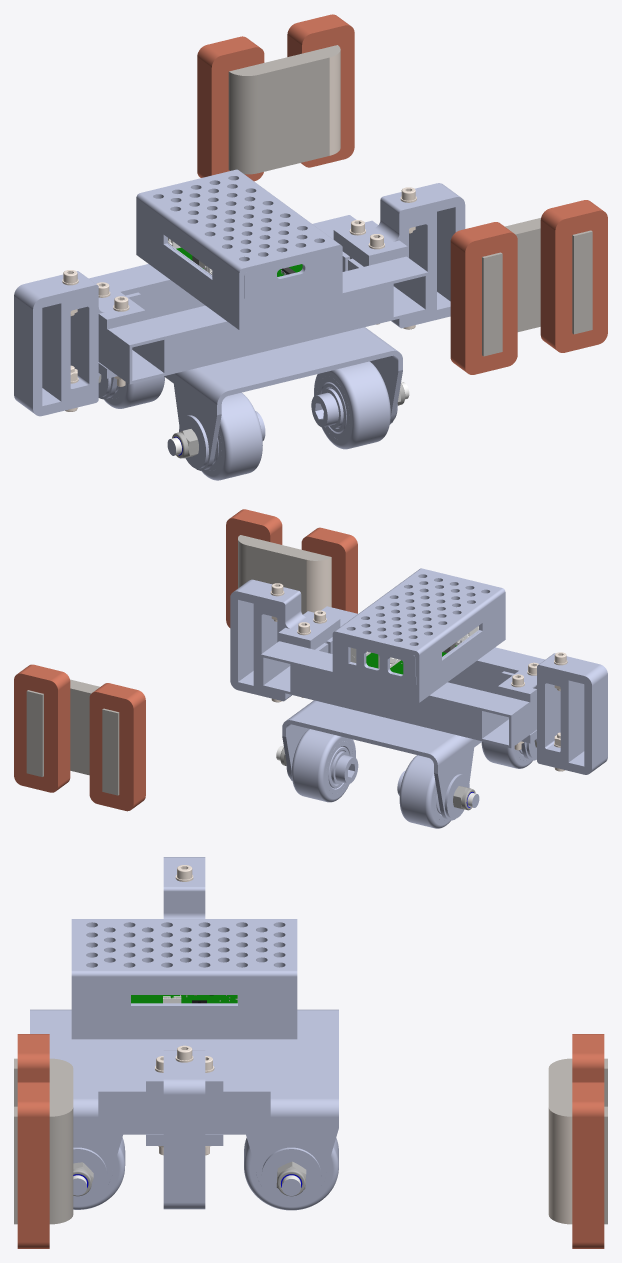
The model's file is vehicle-2.glb.
3 views of the same model, one above another, from view 1: azimuth 30°, elevation 25°; view 2: azimuth 150°, elevation 25°; view 3: azimuth 270°, elevation 25° (orthographic). The views are drawn at different scales.
Parts seen in each view (by area): view 1: EMSassembly-4/Ensamblaje unidad de levitación (EMS)-1/Bobina (×2), caja placa pieza 1-1, EMSassembly-5/Ensamblaje unidad de levitación (EMS)-1/Yugo-1, soporte ruedas-1, Larguero-3, EMSassembly-5/Ensamblaje unidad de levitación (EMS)-1/Bobina (×2), EMSassembly-4/Ensamblaje unidad de levitación (EMS)-1/Yugo-1, EMSassembly-4/Pieza2-1, EMSassembly-4/Pieza1-1, parte lateral caja placa pieza 2-1, Rueda-2, EMSassembly-5/Pieza2-1 (+9 smaller); view 2: EMSassembly-5/Ensamblaje unidad de levitación (EMS)-1/Bobina (×2), caja placa pieza 1-1, soporte ruedas-1, Larguero-1, EMSassembly-4/Ensamblaje unidad de levitación (EMS)-1/Bobina (×2), EMSassembly-5/Ensamblaje unidad de levitación (EMS)-1/Yugo-1, EMSassembly-4/Pieza2-1, EMSassembly-4/Ensamblaje unidad de levitación (EMS)-1/Yugo-1, EMSassembly-4/Pieza1-1, EMSassembly-5/Pieza1-1, Rueda-1, parte 2 lateral caja placa pieza 3-1 (+10 smaller); view 3: caja placa pieza 1-1, soporte ruedas-1, parte baja caja-1, larguero entre perfiles-1, EMSassembly-4/Ensamblaje unidad de levitación (EMS)-1/Bobina (×2), EMSassembly-5/Ensamblaje unidad de levitación (EMS)-1/Bobina (×2), EMSassembly-5/Pieza1-1, EMSassembly-4/Ensamblaje unidad de levitación (EMS)-1/Yugo-1, EMSassembly-5/Ensamblaje unidad de levitación (EMS)-1/Yugo-1, Arandela exterior_Montaje soporte ruedas y abrazadera-1, Rueda-1, Larguero-1 (+8 smaller).
Part boxes in pixels (x1,y1,x2,y2): EMSassembly-4/Ensamblaje unidad de levitación (EMS)-1/Bobina (×2): (450,200,607,374); caja placa pieza 1-1: (136,169,342,309); EMSassembly-5/Ensamblaje unidad de levitación (EMS)-1/Yugo-1: (228,45,340,174); soporte ruedas-1: (98,327,402,470); Larguero-3: (145,265,390,375); EMSassembly-5/Ensamblaje unidad de levitación (EMS)-1/Bobina (×2): (197,14,354,181); EMSassembly-4/Ensamblaje unidad de levitación (EMS)-1/Yugo-1: (482,218,592,356); EMSassembly-4/Pieza2-1: (42,284,145,401); EMSassembly-4/Pieza1-1: (14,271,98,416); parte lateral caja placa pieza 2-1: (244,251,337,323); Rueda-2: (314,361,390,449); EMSassembly-5/Pieza2-1: (333,207,436,318); EMSassembly-5/Ensamblaje unidad de levitación (EMS)-1/Bobina (×2): (14,664,145,811); caja placa pieza 1-1: (332,568,505,685); soporte ruedas-1: (282,700,536,820); Larguero-1: (292,649,497,740); EMSassembly-4/Ensamblaje unidad de levitación (EMS)-1/Bobina (×2): (226,509,357,627); EMSassembly-5/Ensamblaje unidad de levitación (EMS)-1/Yugo-1: (26,679,119,795); EMSassembly-4/Pieza2-1: (498,664,584,762); EMSassembly-4/Ensamblaje unidad de levitación (EMS)-1/Yugo-1: (238,535,331,614); EMSassembly-4/Pieza1-1: (537,653,607,774); EMSassembly-5/Pieza1-1: (230,579,301,701); Rueda-1: (291,729,355,802); parte 2 lateral caja placa pieza 3-1: (336,636,415,697); caja placa pieza 1-1: (71,919,297,1005); soporte ruedas-1: (30,1009,338,1203); parte baja caja-1: (71,1003,297,1039); larguero entre perfiles-1: (98,1071,270,1134); EMSassembly-4/Ensamblaje unidad de levitación (EMS)-1/Bobina (×2): (17,1034,49,1248); EMSassembly-5/Ensamblaje unidad de levitación (EMS)-1/Bobina (×2): (572,1034,604,1248); EMSassembly-5/Pieza1-1: (163,1050,205,1209); EMSassembly-4/Ensamblaje unidad de levitación (EMS)-1/Yugo-1: (14,1058,73,1224); EMSassembly-5/Ensamblaje unidad de levitación (EMS)-1/Yugo-1: (548,1058,607,1224); Arandela exterior_Montaje soporte ruedas y abrazadera-1: (261,1147,321,1202); Rueda-1: (244,1138,338,1210); Larguero-1: (223,1039,270,1071).
Bounding box in the file's own units: 0.5409 × 0.207 × 0.5.
35 materials, 1 textured.
